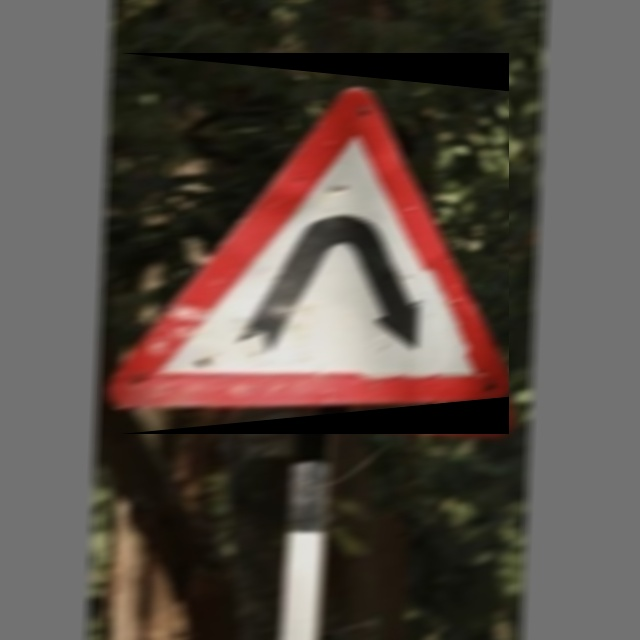Right_Hair_Pin_Bend: (120, 53, 509, 434)
